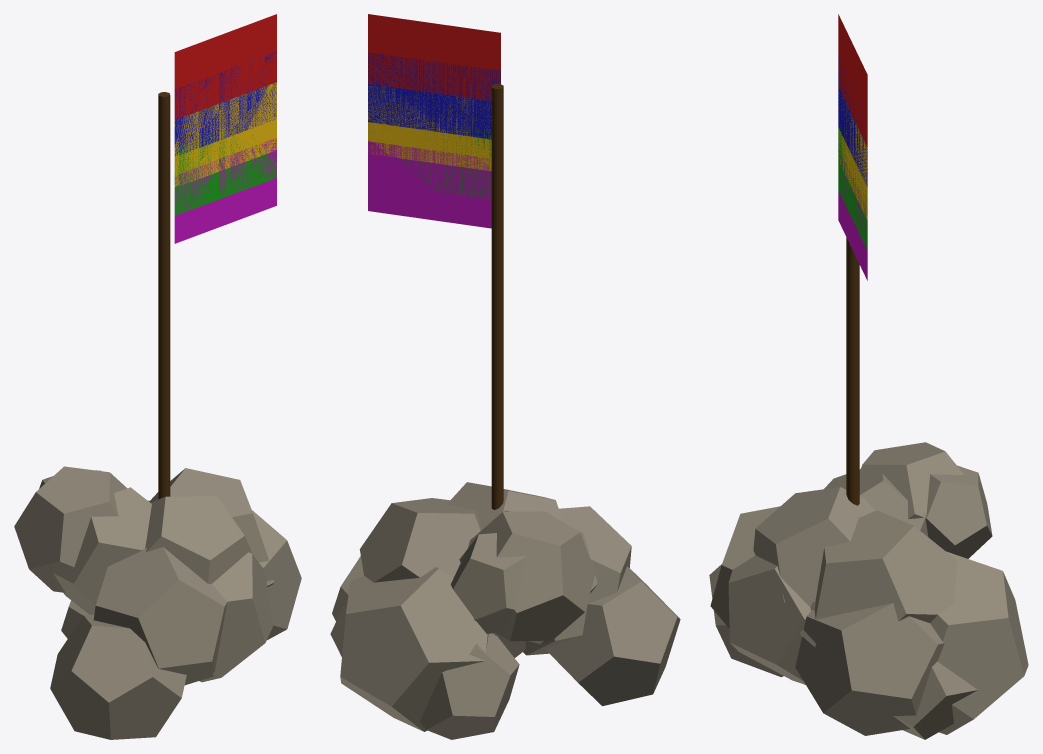
The model's file is ovoo.glb.
3 renders of one model, left to right at view 1: azimuth 30°, elevation 25°; view 2: azimuth 150°, elevation 25°; view 3: azimuth 270°, elevation 25°, orthographic. The views are drawn at different scales.
Bounding box in the file's own units: 2.31 × 5.23 × 2.17.
